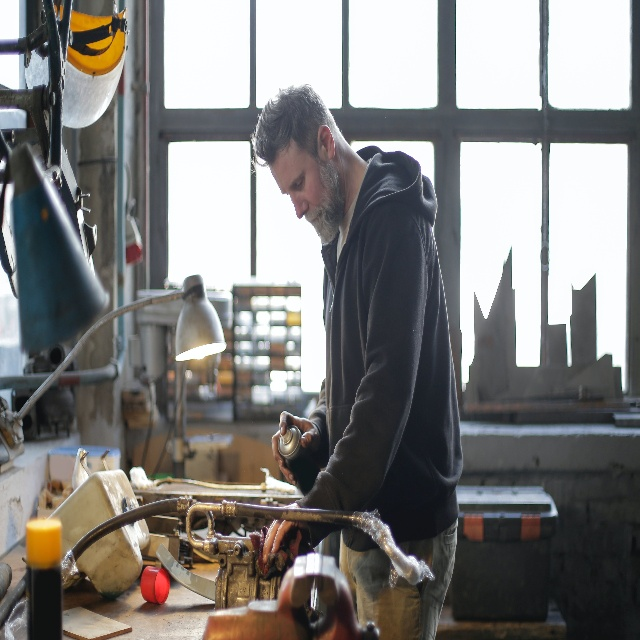Sin_guantes: (270, 409, 317, 487), (263, 512, 304, 571)
